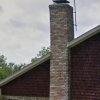Chimney: (43, 0, 76, 40)
